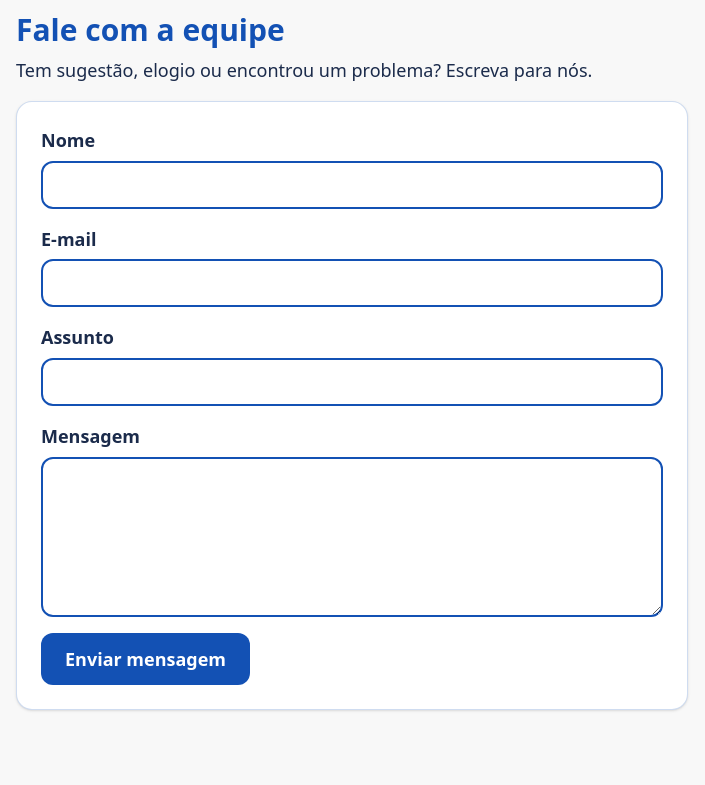
Test: Contato › formulário vazio: mostra o resumo de erros e dá foco nele
Click the button "Enviar mensagem": (146, 659) x1=41 y1=633 x2=250 y2=685
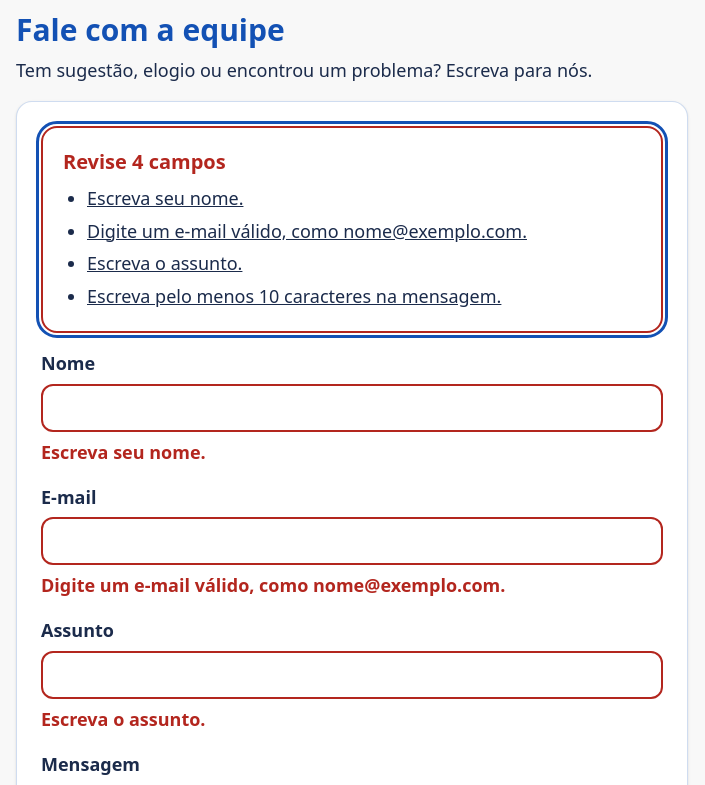
expect the field labelled "Nome" is marked as invalid: met, box x1=41 y1=384 x2=663 y2=432
